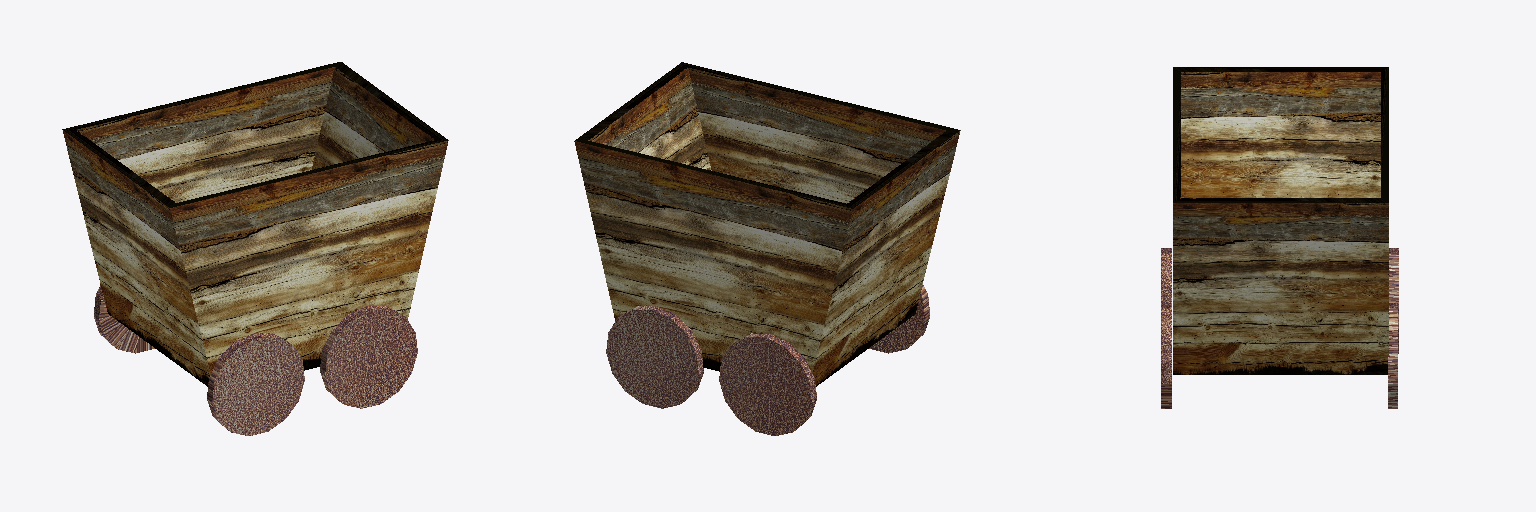
3 renders of one model, left to right at view 1: azimuth 30°, elevation 25°; view 2: azimuth 150°, elevation 25°; view 3: azimuth 270°, elevation 25°, orthographic.
Visible parts, largest first — view 1: obj1; view 2: obj1; view 3: obj1.
Boxes of the visible parts, box(x1,y1,x2,y2) form: obj1: box(62, 62, 448, 435); obj1: box(574, 62, 960, 435); obj1: box(1161, 67, 1398, 408).
Size of the model in its own units: 29.9 by 24.76 by 22.03.
2 materials, 2 textured.